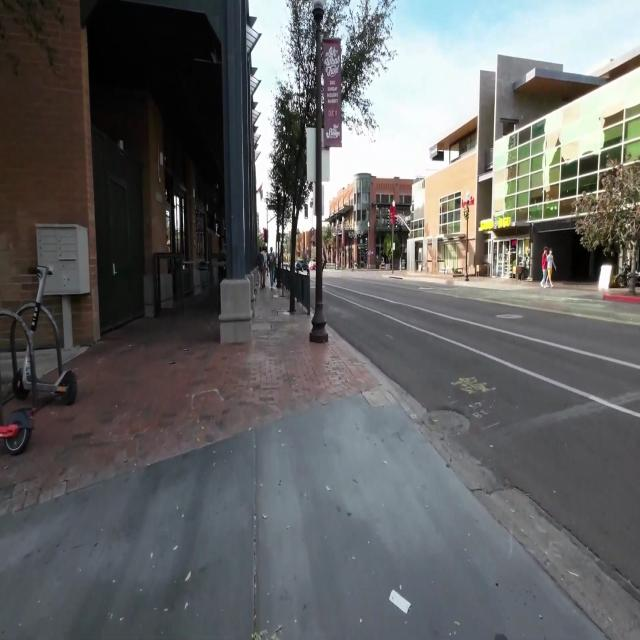road: (322, 271, 640, 639)
side walk: (0, 312, 531, 639)
street sign: (295, 0, 344, 329)
